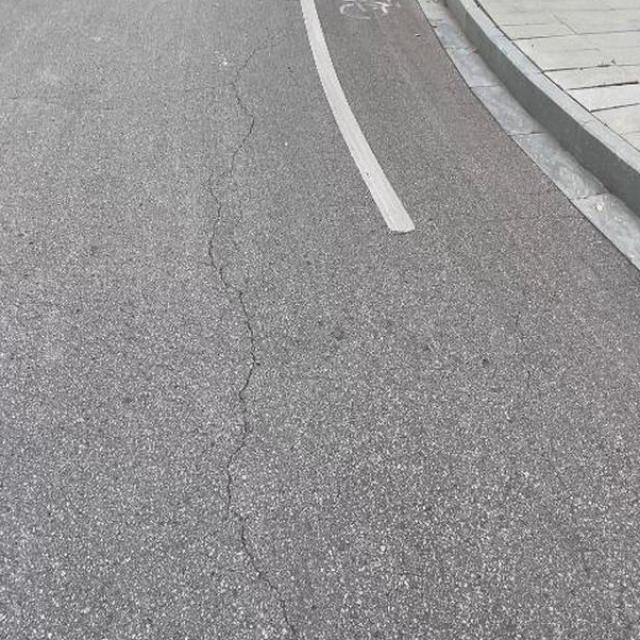Memanjang: (196, 40, 302, 640)
